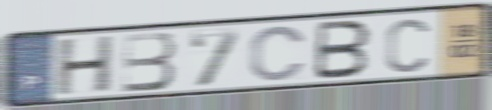7: (187, 26, 242, 89)
B: (311, 19, 374, 82), (120, 30, 178, 95)
C: (248, 23, 310, 83), (383, 16, 431, 75)
H: (53, 33, 117, 98)
